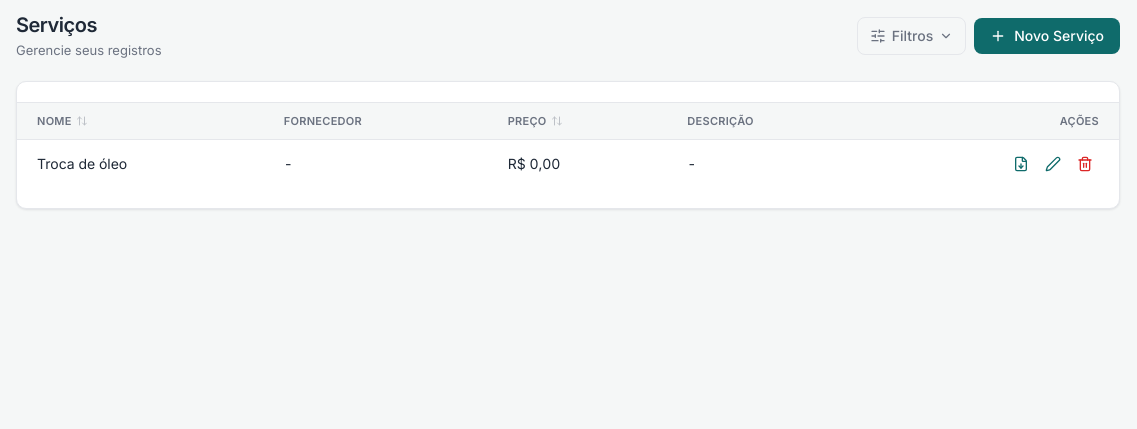
<WorkServiceList> › filtra por fornecedor pelo painel de Filtros
The image size is (1137, 429).
Expected: the text "Troca de óleo" is shown, [17,140,264,188]
Click the button "Filtros" at (912, 36), box [857,17,966,55]
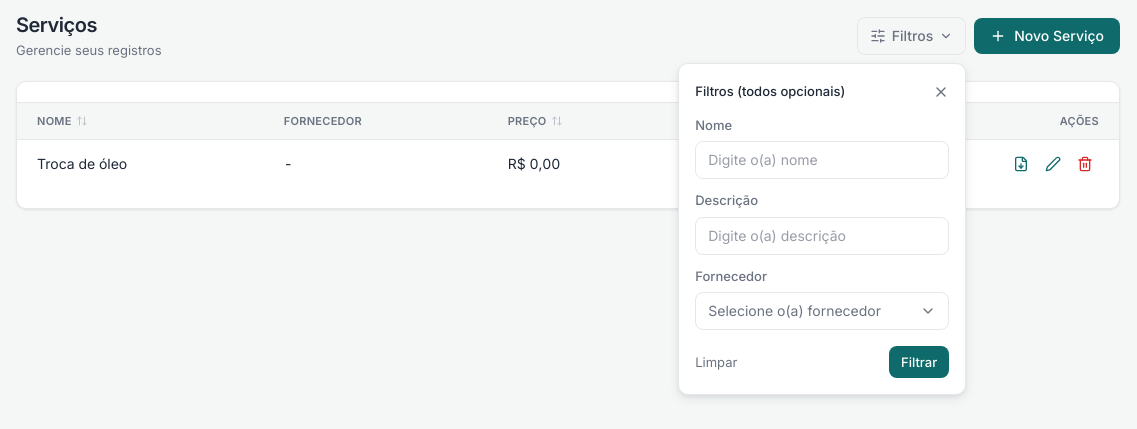
Click the button "Selecione o(a) fornecedor" at (822, 311), box [695,292,949,330]
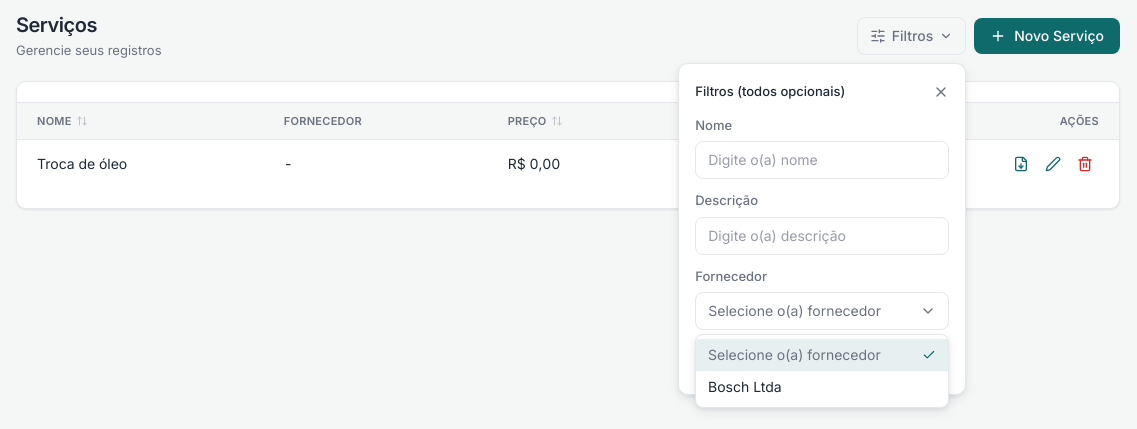
Click the option "Bosch Ltda" at (745, 386), box [708,378,782,395]
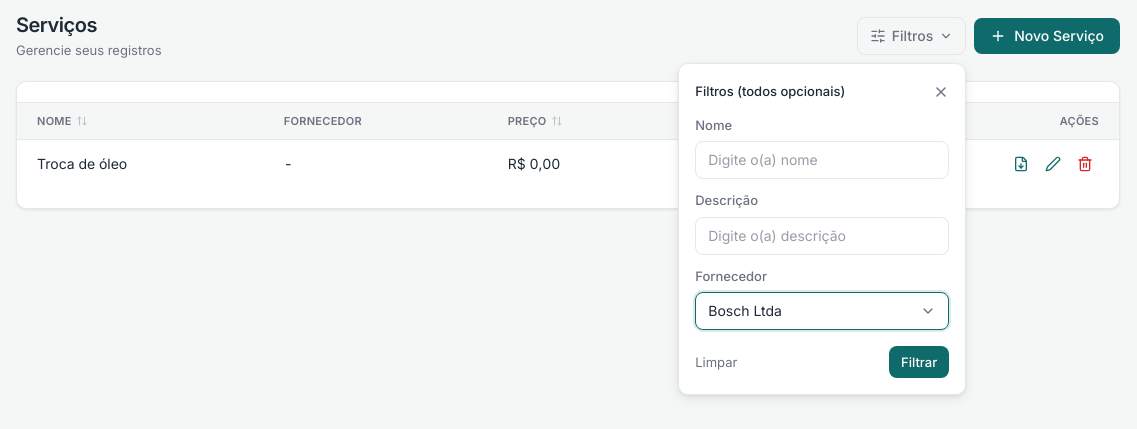
Click the button "Filtrar" at (919, 362), box [889,346,949,378]
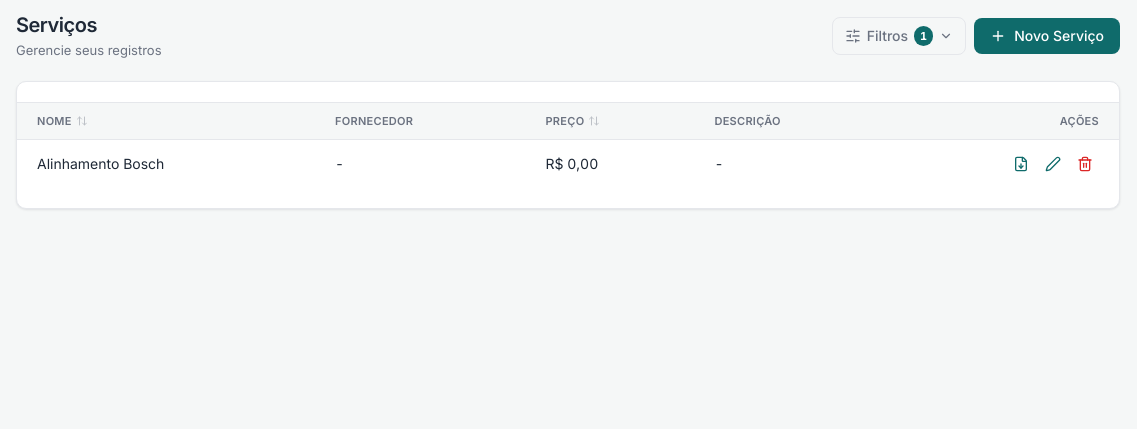
Expected: the text "Alinhamento Bosch" is shown, [17,140,315,188]
Expected: the text "Troca de óleo" is gone
